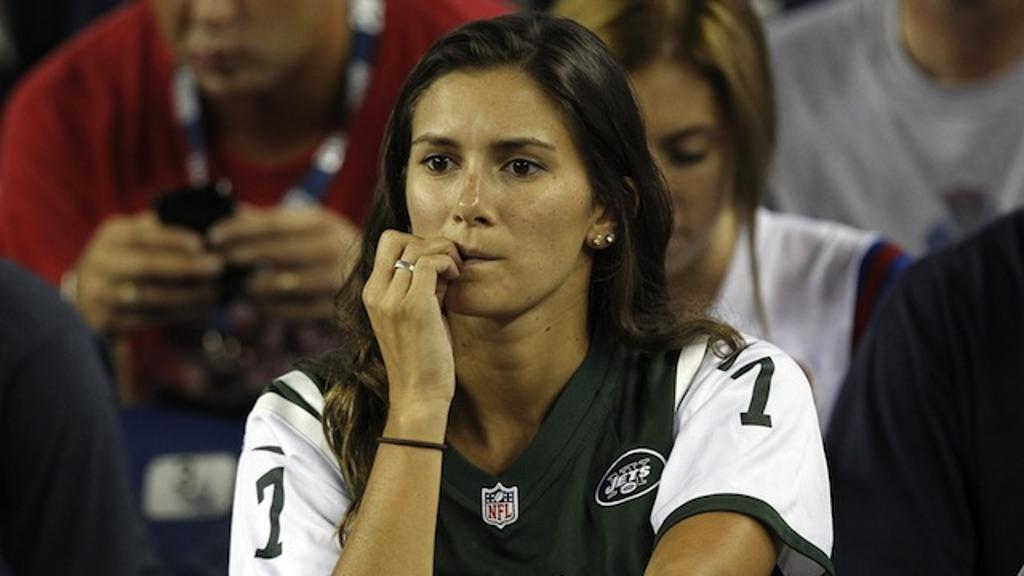face: (406, 88, 592, 320), (608, 68, 724, 284)
